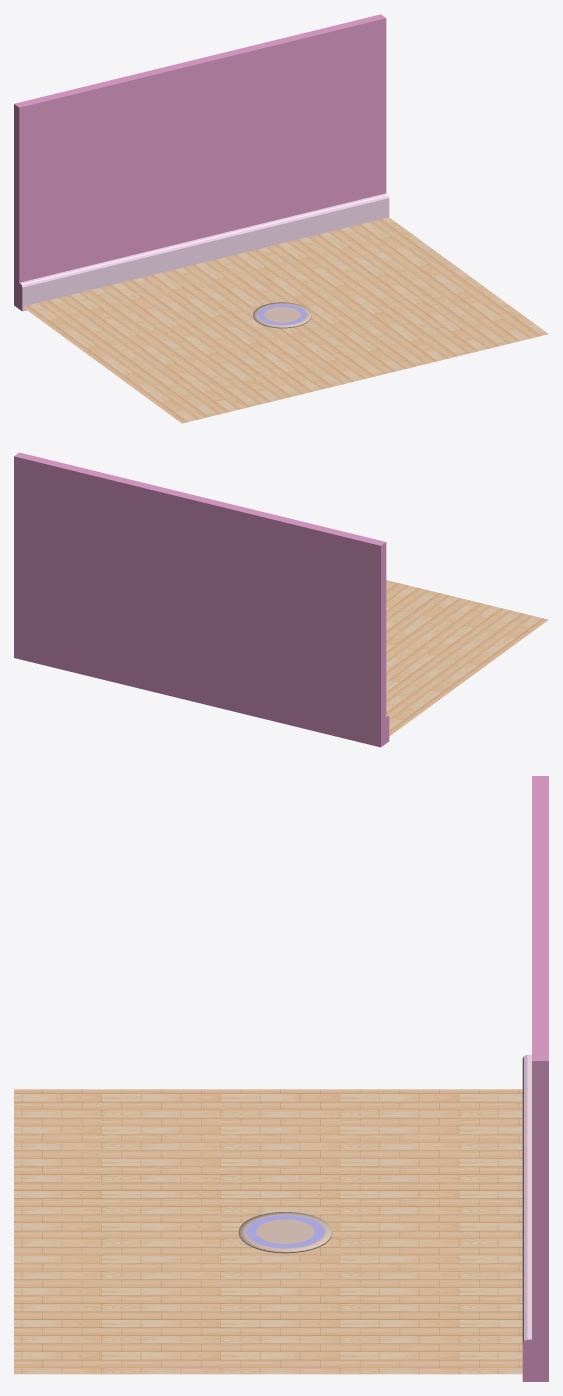
The model's file is jelly-world.glb.
The picture shows the model from 3 angles, top to bottom: view 1: azimuth 30°, elevation 25°; view 2: azimuth 150°, elevation 25°; view 3: azimuth 270°, elevation 25°; orthographic projection. The views are drawn at different scales.
Parts seen in each view (by area): view 1: Cube, Plane, Circle; view 2: Cube, Plane; view 3: Plane, Cube, Circle.
Boxes of the visible parts, bbox=[...] form: Cube: bbox=[14, 14, 389, 311]; Plane: bbox=[22, 217, 548, 423]; Circle: bbox=[253, 302, 311, 328]; Cube: bbox=[14, 452, 389, 747]; Plane: bbox=[386, 580, 548, 736]; Plane: bbox=[14, 1089, 522, 1374]; Cube: bbox=[522, 776, 548, 1381]; Circle: bbox=[238, 1212, 332, 1253].
Size of the model in its own units: 4 by 2.1 by 3.17.
Materials: 2 (2 with a texture image).
